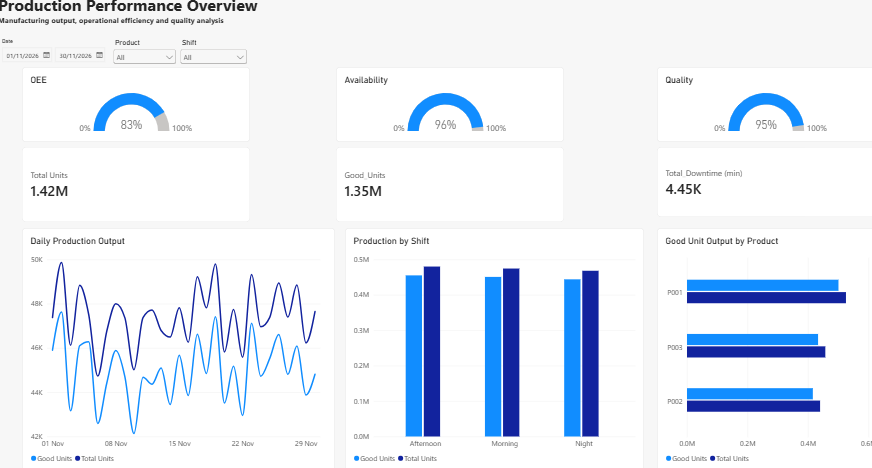

This screenshot's page, from the dashboard's own definition file:
{"tool":"powerbi","page":{"name":"Production Overview","canvas":[1920,1080],"ordinal":0},"visuals":[{"type":"textbox","box":[10,0,788,82],"z":0},{"type":"cardVisual","fields":{"Data":["Production.Total Units"]},"box":[57.5,307.5,456,150],"z":1000},{"type":"cardVisual","fields":{"Data":["Production.Good_Units"]},"box":[685,307.5,456,150],"z":2000},{"type":"gauge","fields":{"Y":["Production.OEE"]},"box":[57.5,147.5,456,150],"z":3000},{"type":"gauge","fields":{"Y":["Production.Availability"]},"box":[685,147.5,456,150],"z":4000},{"type":"gauge","fields":{"Y":["Production.Quality"]},"box":[1327.5,147.5,455,150],"z":5000},{"type":"cardVisual","fields":{"Data":["Production.Total_Downtime (min)"]},"box":[1327.5,307.5,455,140],"z":6000},{"type":"lineChart","title":"Daily Production Output","fields":{"Category":["Calendar.Date"],"Y":["Production.Good_Units","Production.Total Units"]},"box":[58,470,626,492],"z":7000},{"type":"clusteredColumnChart","title":"Production by Shift","fields":{"Category":["Production.Shift"],"Y":["Production.Good_Units","Production.Total Units"]},"box":[704,470,598,492],"z":8000},{"type":"clusteredBarChart","title":"Good Unit Output by Product","fields":{"Category":["Production.Product"],"Y":["Production.Good_Units","Production.Total Units"]},"box":[1328,470,456,492],"z":9000},{"type":"slicer","fields":{"Values":["Calendar.Date"]},"box":[10,90,225,57.5],"z":10000},{"type":"slicer","fields":{"Values":["Production.Product"]},"box":[235,90,135,57.5],"z":11000},{"type":"slicer","fields":{"Values":["Production.Shift"]},"box":[370,90,142.5,57.5],"z":12000}]}

Visuals, with their boxes on the page's 1920x1080 design canvas (x1, y1, x2, y2). These are canvas units, not pixel positions in the 872x468 screenshot, which may show the page scaled, cropped or inside an application window:
textbox: <bbox>10, 0, 798, 82</bbox>
cardVisual - Production.Total Units: <bbox>58, 308, 514, 458</bbox>
cardVisual - Production.Good_Units: <bbox>685, 308, 1141, 458</bbox>
gauge - Production.OEE: <bbox>58, 148, 514, 298</bbox>
gauge - Production.Availability: <bbox>685, 148, 1141, 298</bbox>
gauge - Production.Quality: <bbox>1328, 148, 1782, 298</bbox>
cardVisual - Production.Total_Downtime (min): <bbox>1328, 308, 1782, 448</bbox>
"Daily Production Output" lineChart: <bbox>58, 470, 684, 962</bbox>
"Production by Shift" clusteredColumnChart: <bbox>704, 470, 1302, 962</bbox>
"Good Unit Output by Product" clusteredBarChart: <bbox>1328, 470, 1784, 962</bbox>
slicer - Calendar.Date: <bbox>10, 90, 235, 148</bbox>
slicer - Production.Product: <bbox>235, 90, 370, 148</bbox>
slicer - Production.Shift: <bbox>370, 90, 512, 148</bbox>
